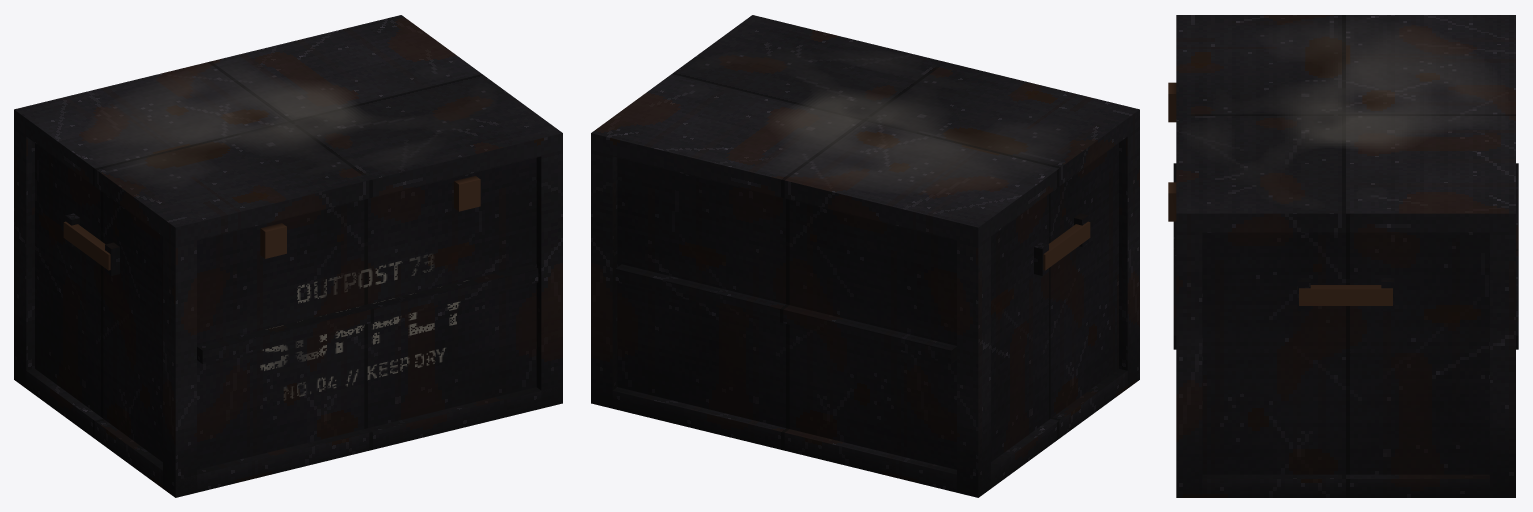
Rendered from crate_large.glb.
3 renders of one model, left to right at view 1: azimuth 30°, elevation 25°; view 2: azimuth 150°, elevation 25°; view 3: azimuth 270°, elevation 25°, orthographic. The views are drawn at different scales.
Visible parts, largest first — view 1: body, decals; view 2: body, decals; view 3: body, decals.
Part boxes in pixels (<box>): body: <box>14,15,562,497</box>; decals: <box>101,71,467,400</box>; body: <box>591,15,1139,497</box>; decals: <box>774,90,1038,187</box>; body: <box>1168,15,1518,497</box>; decals: <box>1282,30,1491,148</box>.
Size of what is drawn, in the model's own units: 0.94 by 0.602 by 0.67.
Materials: 5 (4 with a texture image).
